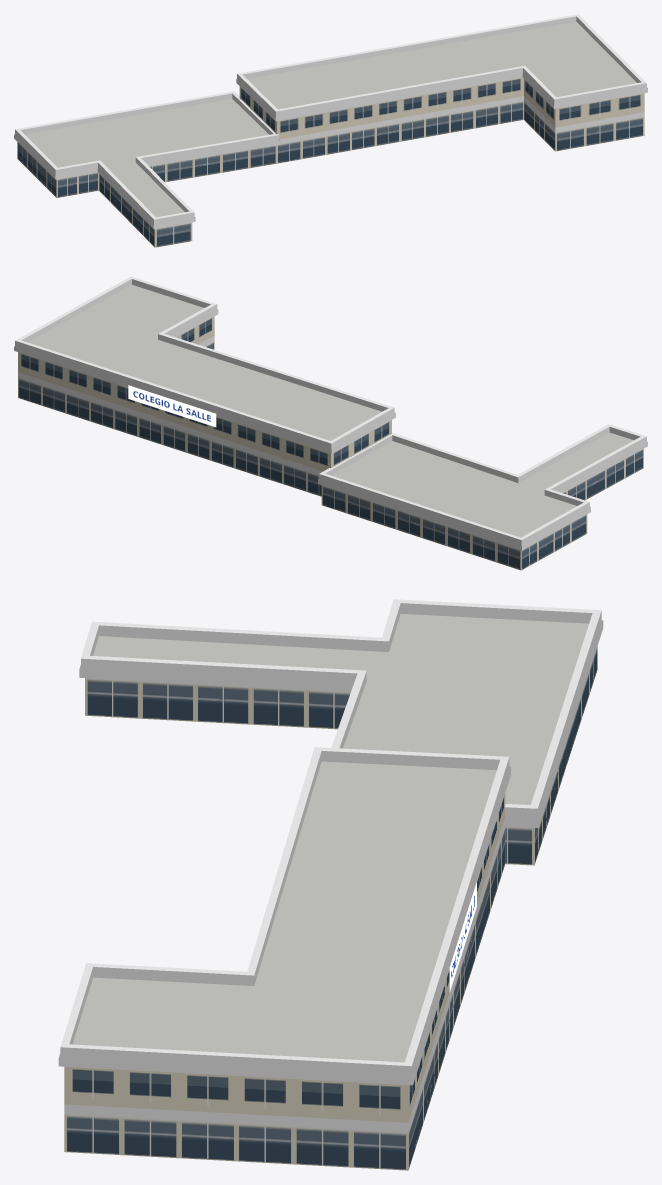
Rendered from lasalle.glb.
3 renders of one model, top to bottom at view 1: azimuth 30°, elevation 25°; view 2: azimuth 150°, elevation 25°; view 3: azimuth 270°, elevation 25°, orthographic. The views are drawn at different scales.
Parts seen in each view (by area): view 1: lasalle_lod0; view 2: lasalle_lod0; view 3: lasalle_lod0.
Part boxes in pixels (x1=…): lasalle_lod0: x1=14, y1=14, x2=647, y2=247; lasalle_lod0: x1=14, y1=276, x2=647, y2=570; lasalle_lod0: x1=58, y1=599, x2=603, y2=1170.
Size of what is drawn, in the model's own units: 83.38 by 8 by 37.19.
Materials: 5 (3 with a texture image).
